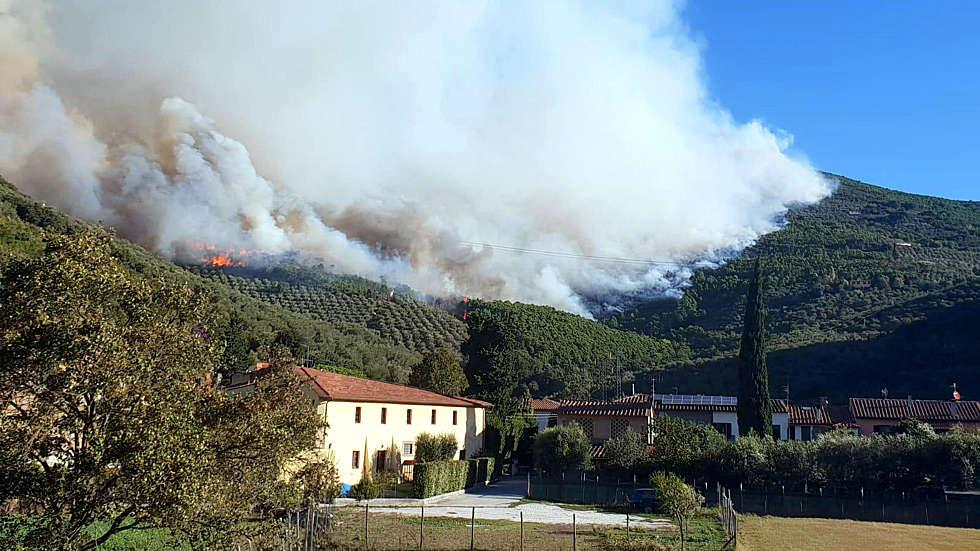smoke: (565, 46, 839, 293)
